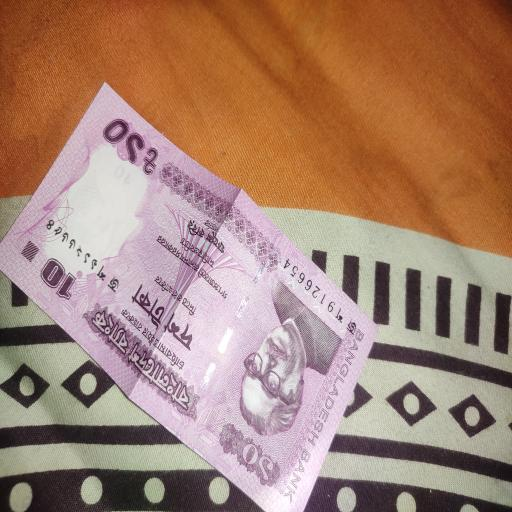10taka: (1, 77, 380, 512)
